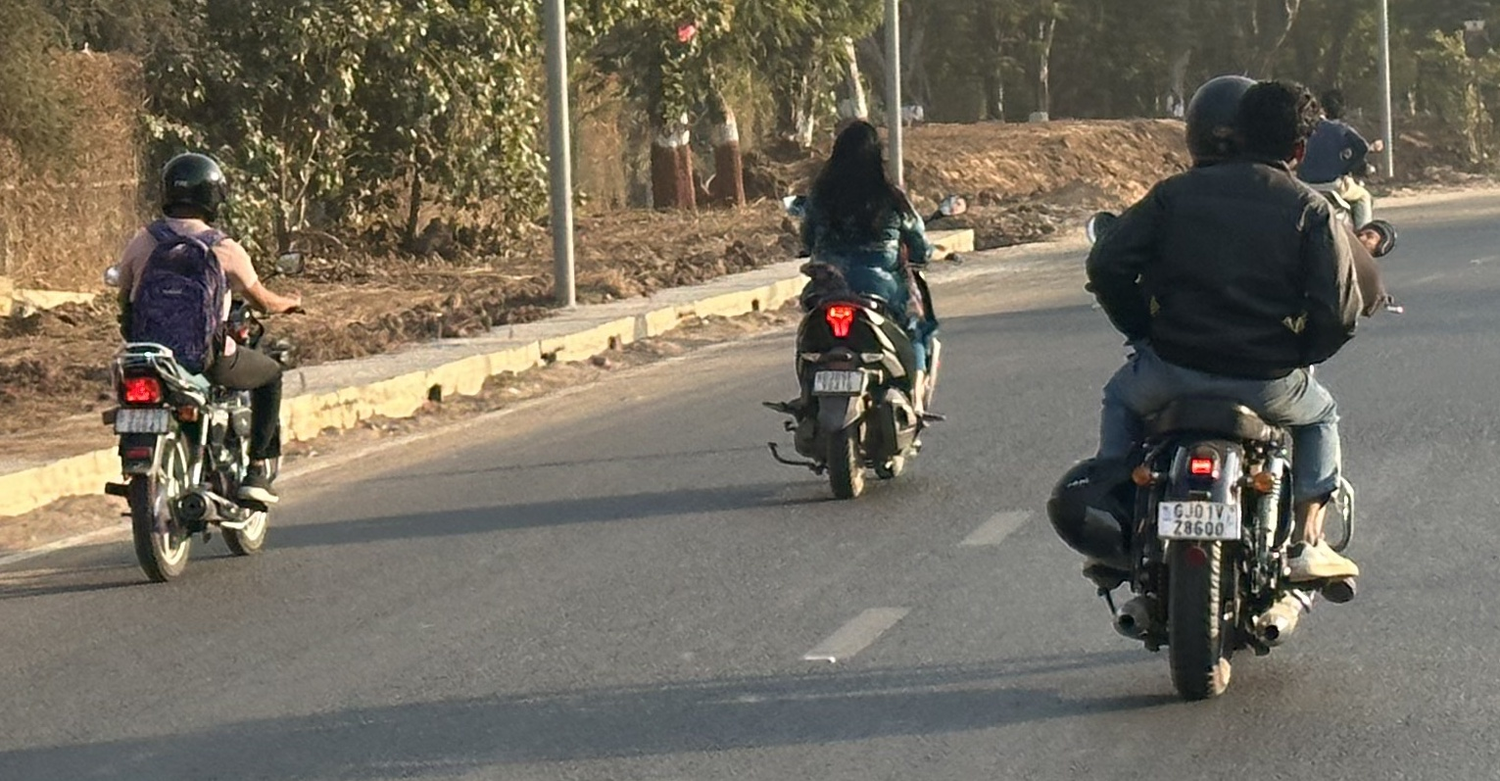BikeWithRider: (1036, 64, 1407, 714), (85, 141, 315, 593), (751, 107, 971, 508)
Helmet: (1174, 67, 1273, 174), (145, 144, 239, 227)
NoHelmet: (1224, 73, 1323, 178), (817, 111, 892, 186)
